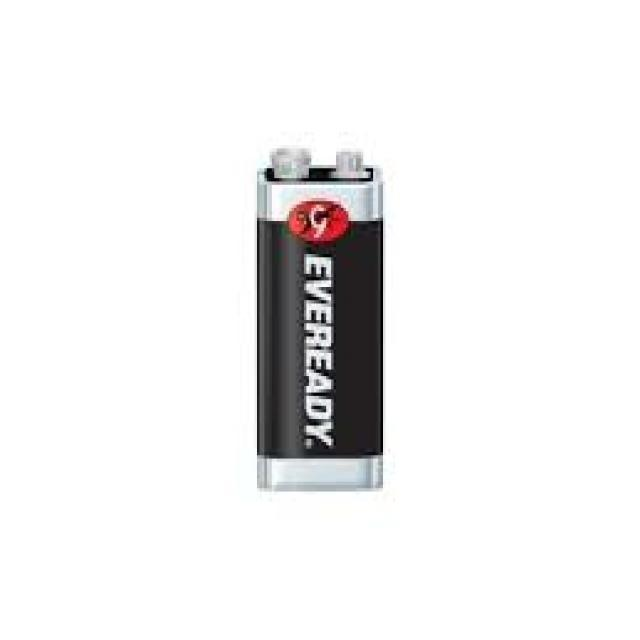battery: (256, 148, 384, 491)
